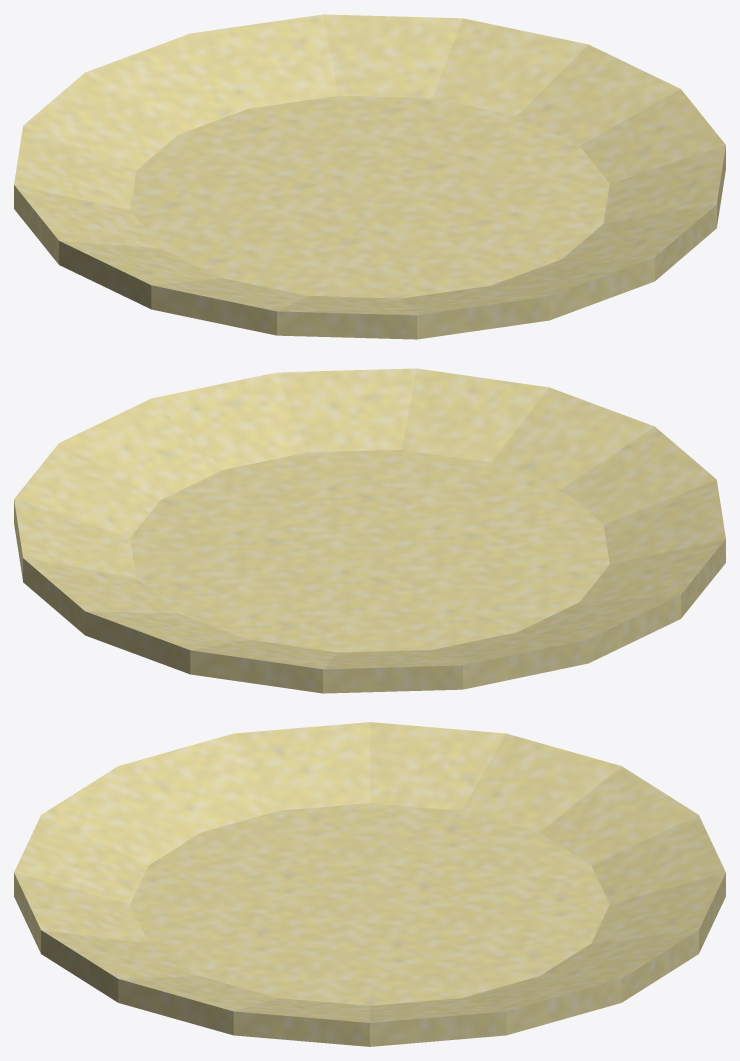
File: aztech_plate.obj
The picture shows the model from 3 angles, top to bottom: view 1: azimuth 30°, elevation 25°; view 2: azimuth 150°, elevation 25°; view 3: azimuth 270°, elevation 25°; orthographic projection.
Visible parts, largest first — view 1: Plate_Cylinder; view 2: Plate_Cylinder; view 3: Plate_Cylinder.
Part boxes in pixels (<box>): Plate_Cylinder: <box>14,14,725,339</box>; Plate_Cylinder: <box>14,368,725,693</box>; Plate_Cylinder: <box>14,722,725,1046</box>.
Bounding box in the file's own units: 20.76 × 1.58 × 20.76.
